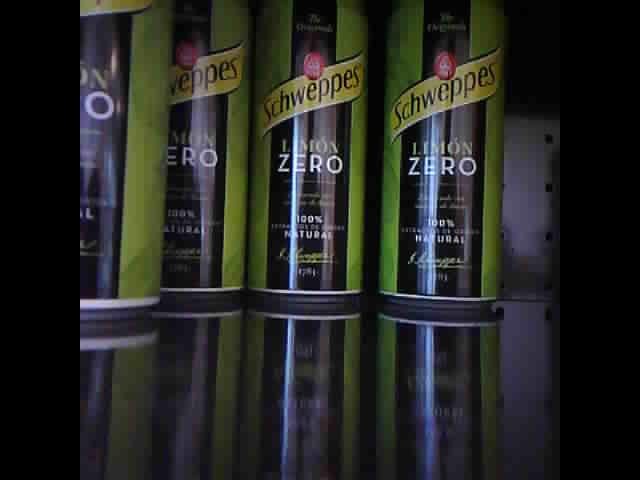schweppes: (375, 1, 503, 308), (244, 1, 371, 304), (78, 2, 169, 320), (158, 2, 250, 302)
